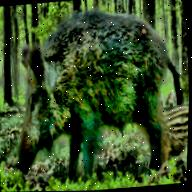boar: (6, 0, 184, 189)
